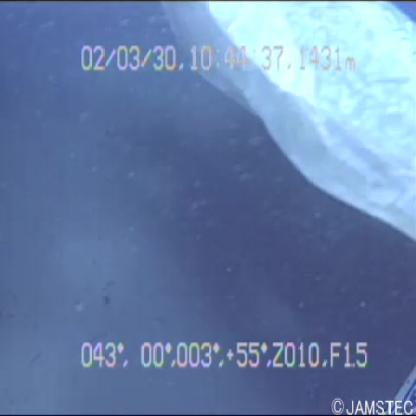Rác: (138, 3, 416, 251)
